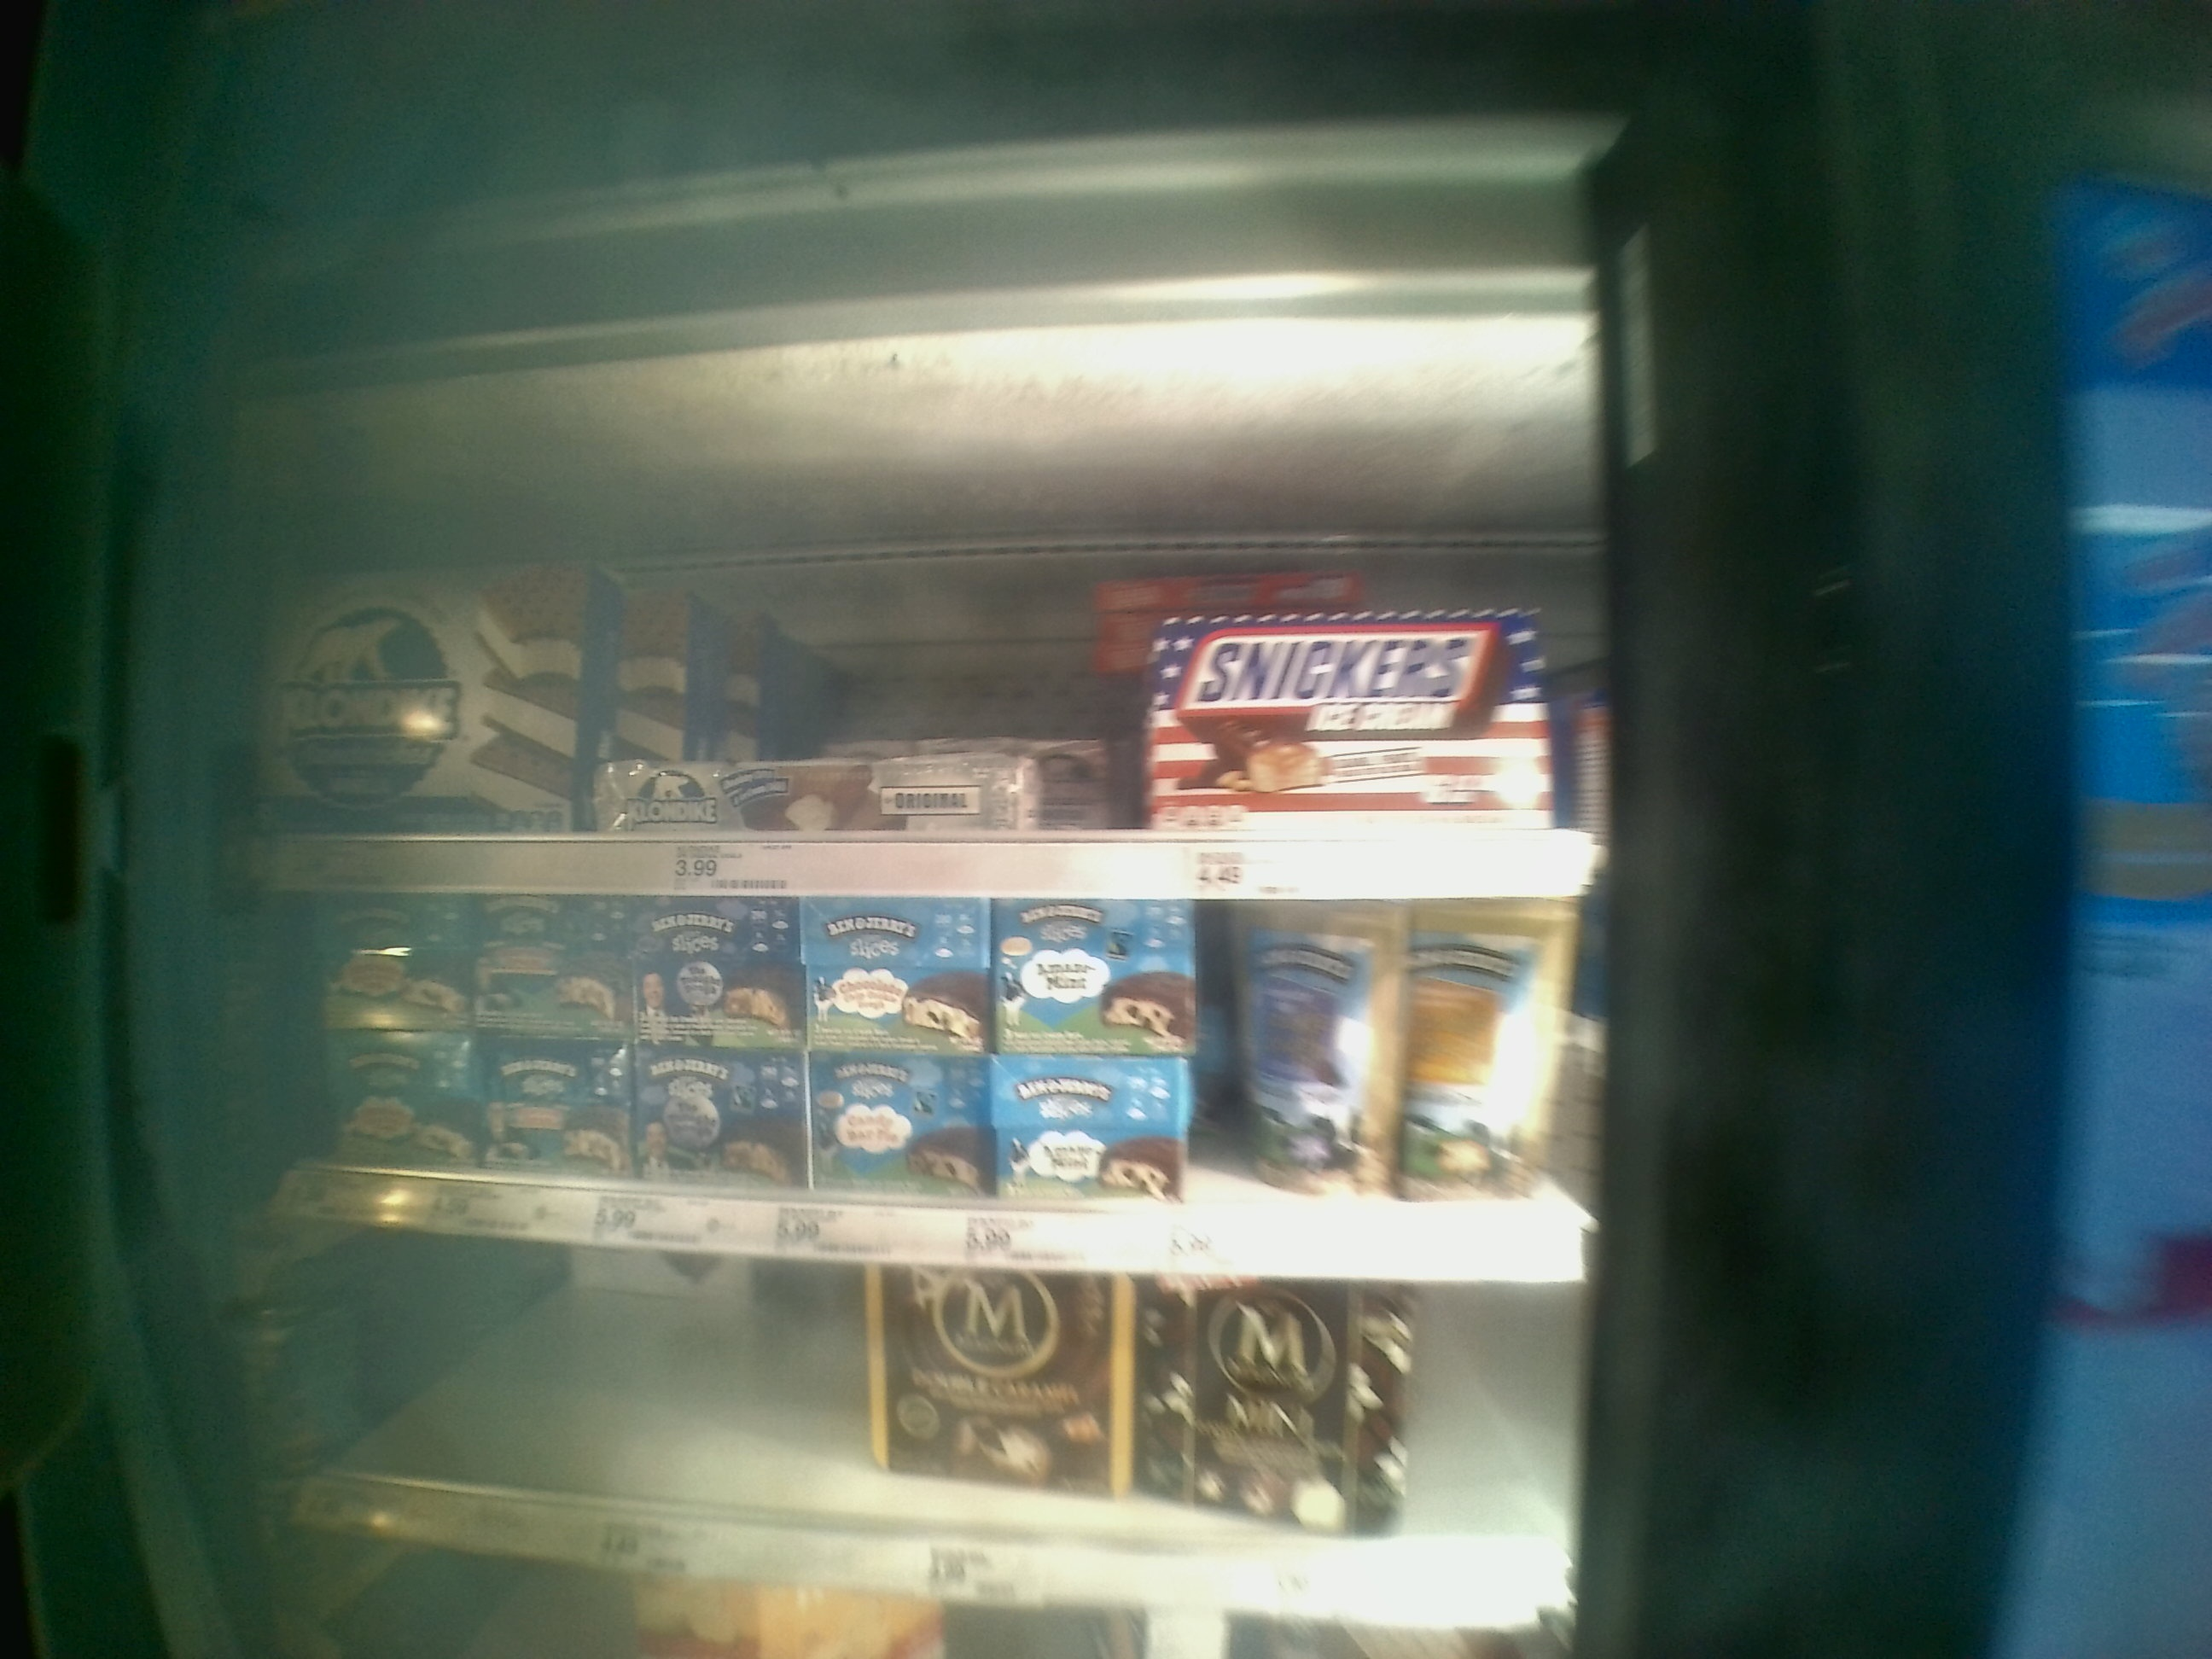shelf: (223, 476, 1606, 892), (218, 884, 1615, 1281), (268, 1218, 1571, 1628)
